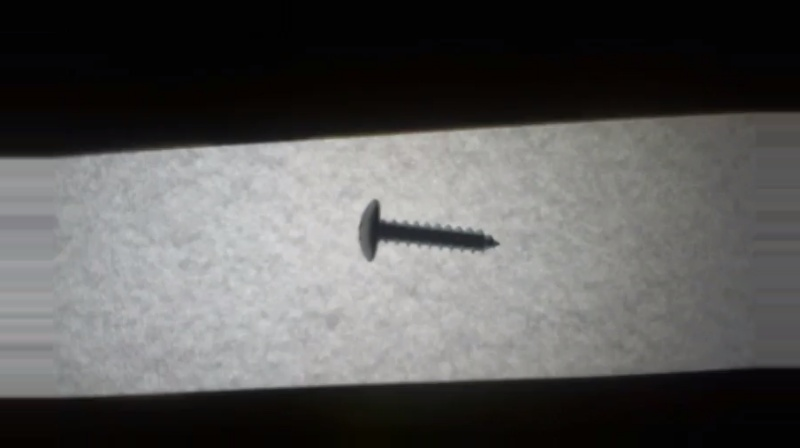S003: (354, 196, 502, 268)
